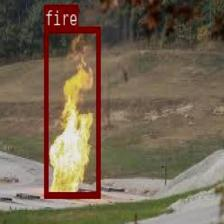fire: (43, 27, 100, 198)
